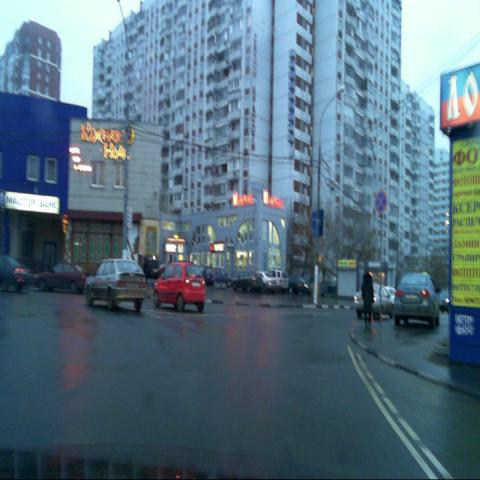3_27: (374, 190, 387, 212)
